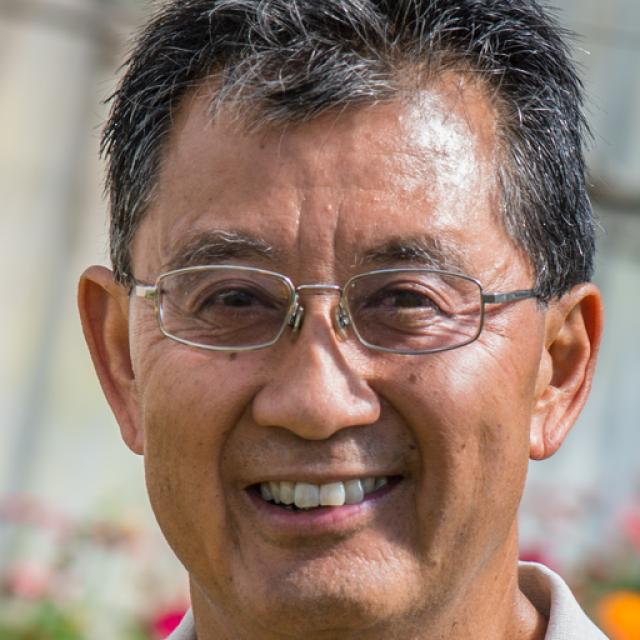Acne: (417, 191, 443, 211), (365, 189, 385, 209), (397, 182, 421, 198), (317, 200, 338, 216), (389, 112, 403, 125)
Wrinkle: (367, 382, 433, 490), (214, 392, 251, 518)
